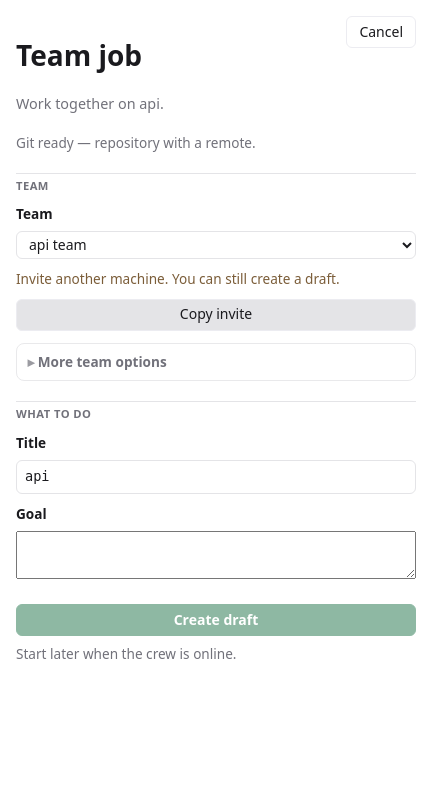
Test: TeamJobCreateSheet › copies invite for a solo team via getTeamToken
The width and height of the screenshot is (433, 806).
Click the button with test id "team-job-copy-invite" at (216, 314), box x1=16 y1=298 x2=416 y2=330
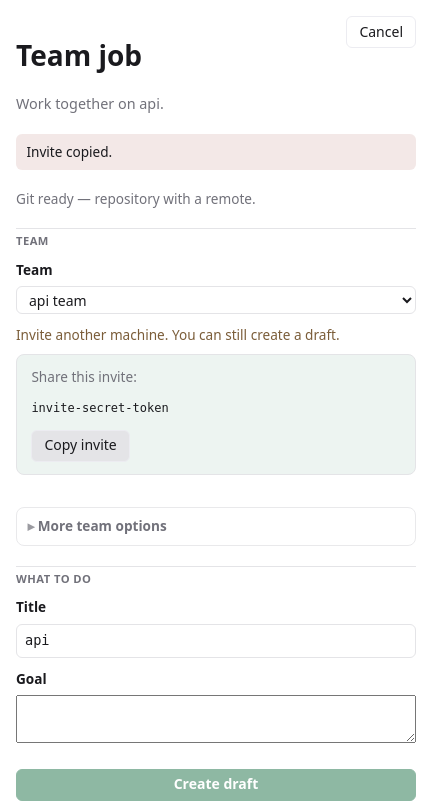
Expected: the text "Invite copied." is shown, x1=16 y1=134 x2=416 y2=170
